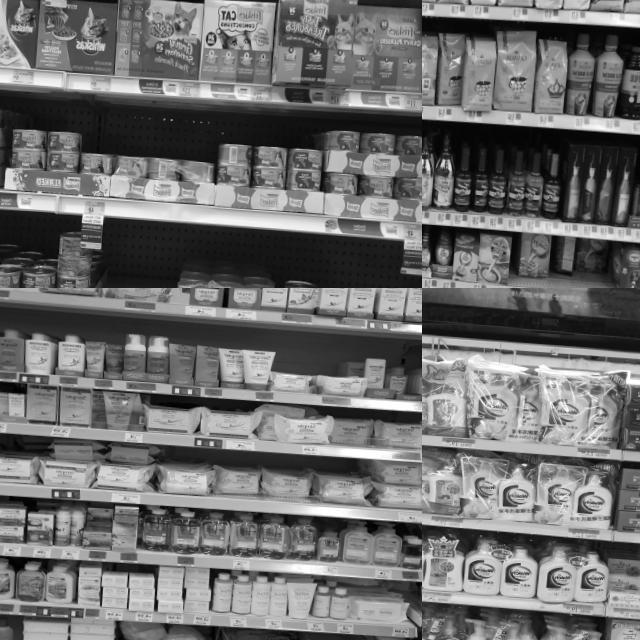Imprecise: (34, 441, 148, 493), (544, 228, 616, 284), (330, 420, 378, 448)
